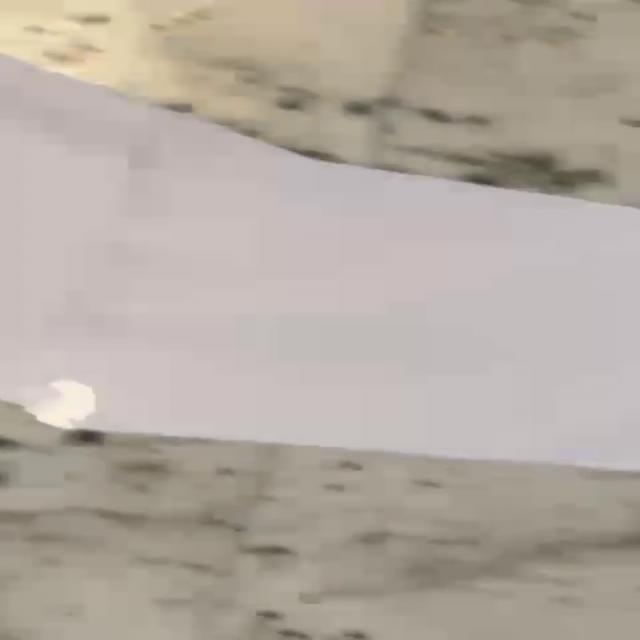road: (0, 54, 640, 474)
